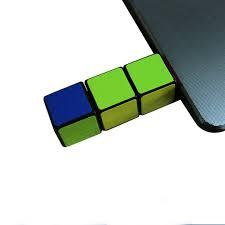cube: (42, 82, 101, 147), (86, 68, 141, 130)
